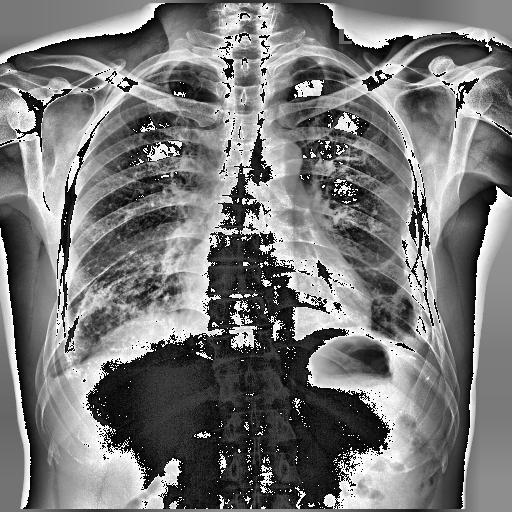10- Pleural effusion: (412, 343, 464, 389), (40, 354, 70, 385), (40, 370, 57, 392)
11- Pleural thickening: (400, 181, 443, 378), (400, 201, 440, 348), (398, 214, 442, 334), (412, 343, 464, 389), (300, 50, 362, 83), (116, 56, 170, 93), (40, 354, 70, 385), (40, 370, 57, 392)
13- Pulmonary fibrosis: (358, 250, 428, 348)
2- Calcification: (60, 291, 96, 358), (371, 336, 420, 358)
4- Consolidation: (74, 248, 188, 360)
5- ILD: (74, 248, 188, 360)
6- Infiltration: (74, 248, 188, 360)
7- Lung Opacity: (63, 250, 187, 378), (358, 250, 428, 348), (102, 244, 164, 308)
